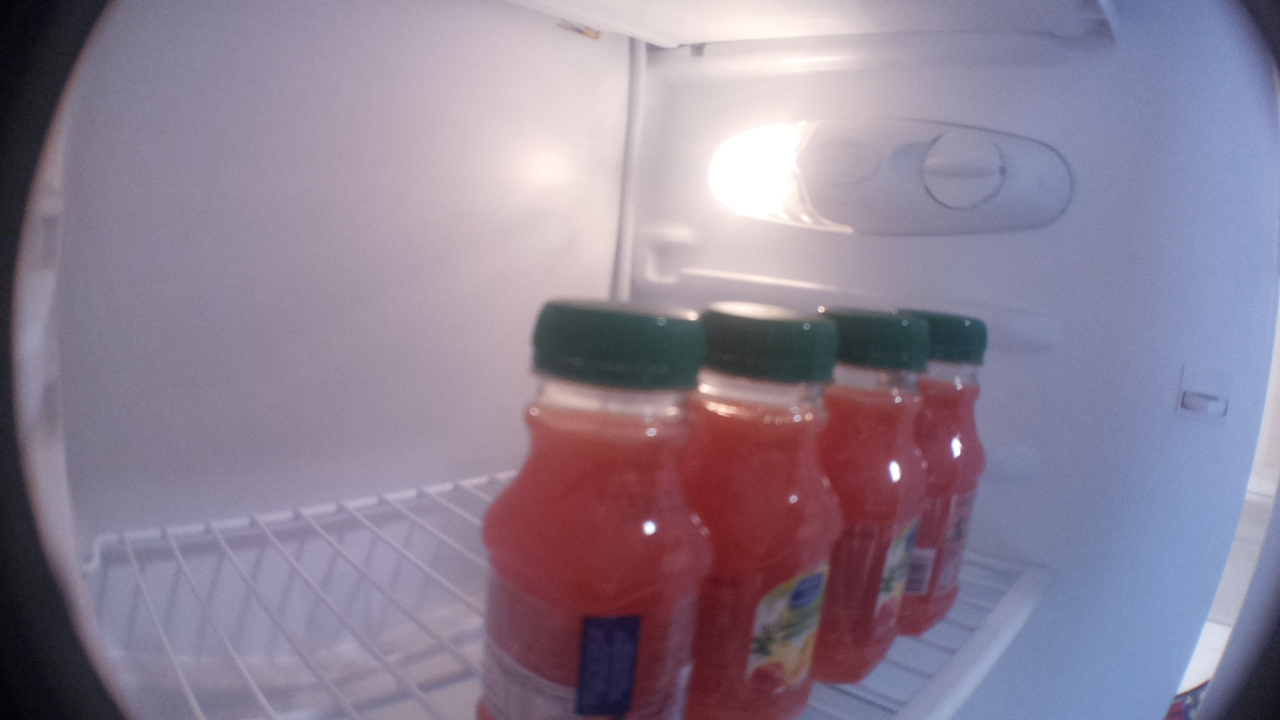juice: (478, 296, 708, 720), (706, 303, 845, 720), (825, 309, 938, 689), (898, 312, 997, 637)
